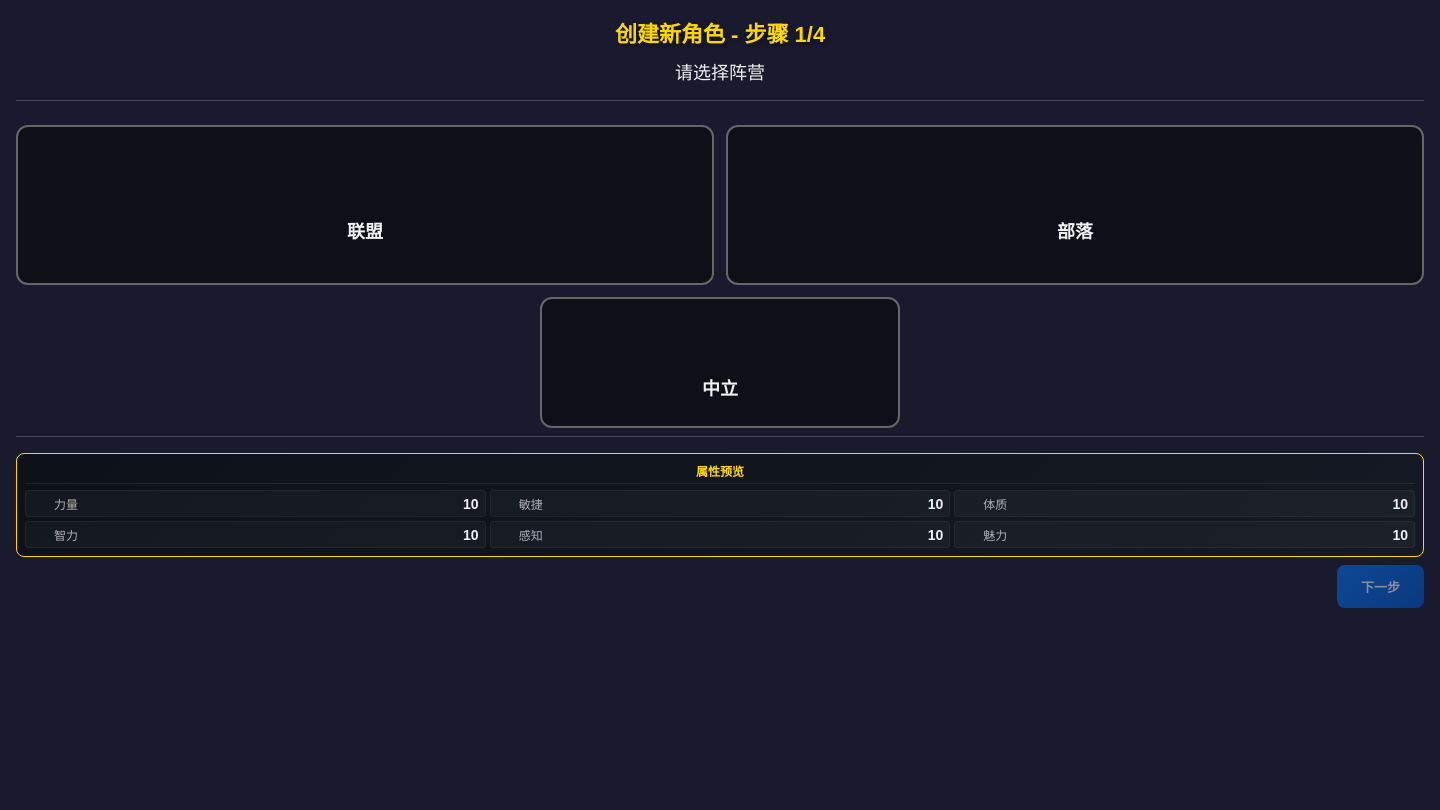
CharacterCreate 角色创建组件 › 选择交互 › 选择阵营后"下一步"按钮启用
Click the button with class "main-faction" showing "联盟" at (365, 182), box [16, 125, 714, 285]
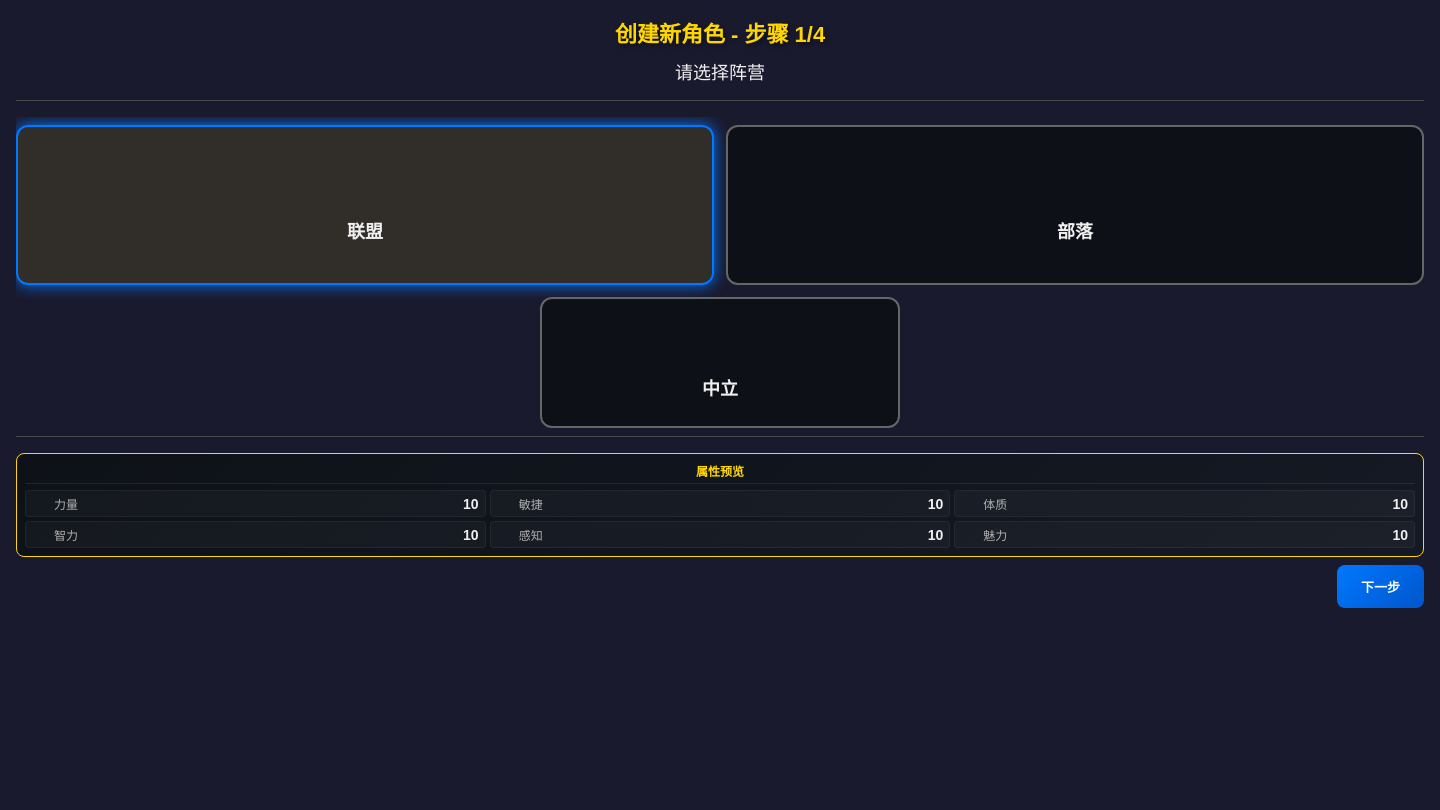
Now the button with class "next" is enabled, box [1337, 565, 1424, 608]
